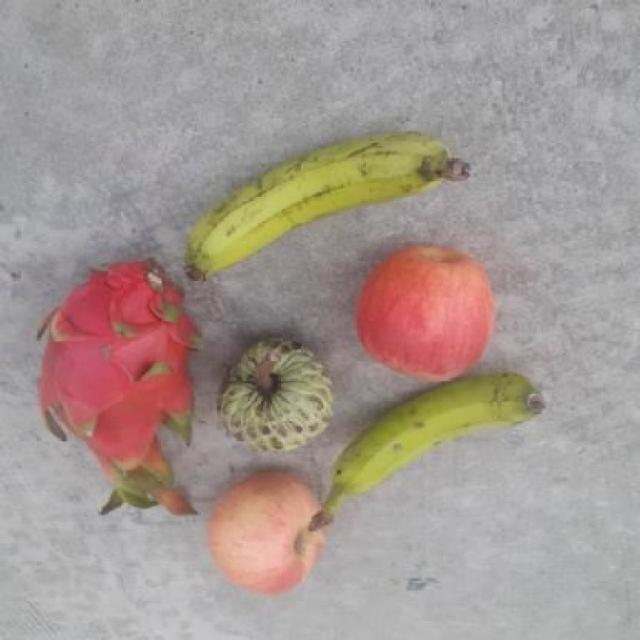apple: (352, 241, 497, 384), (206, 467, 329, 595)
banana: (181, 131, 474, 284), (302, 372, 546, 532)
dragon fruit: (28, 259, 208, 516)
sugar apple: (214, 336, 334, 455)
